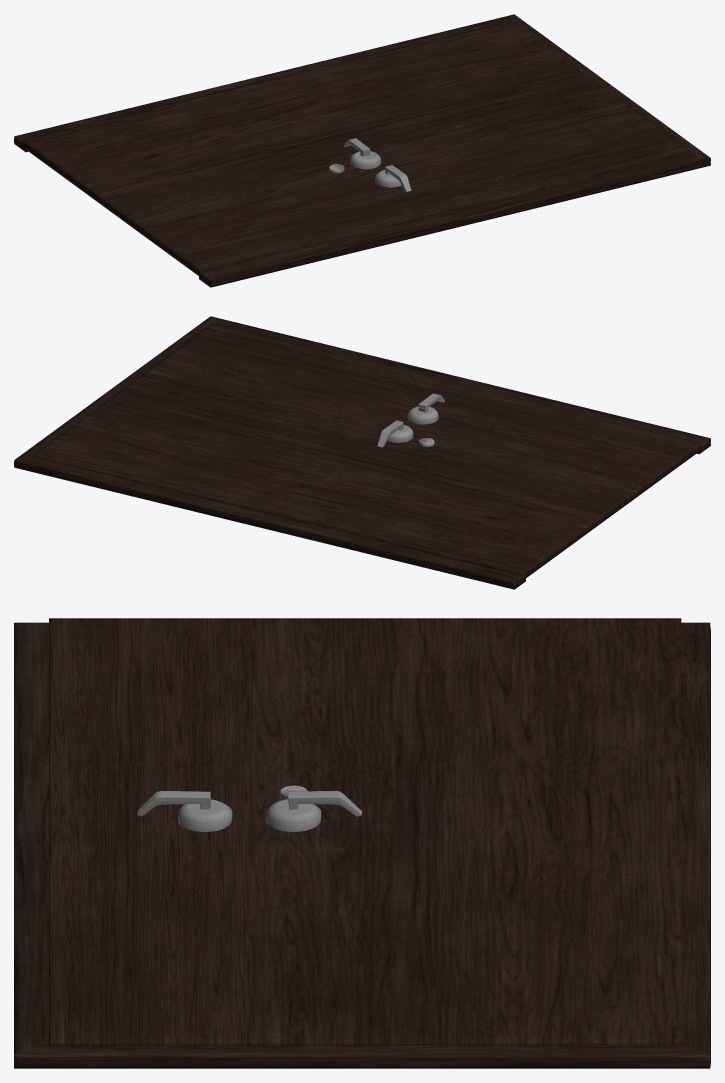
File: SM_104_Door_101.fbx
3 renders of one model, top to bottom at view 1: azimuth 30°, elevation 25°; view 2: azimuth 150°, elevation 25°; view 3: azimuth 270°, elevation 25°, orthographic. The views are drawn at different scales.
Visible parts, largest first — view 1: SM_104_Door_101; view 2: SM_104_Door_101; view 3: SM_104_Door_101.
Part boxes in pixels (left/top/right/bottom): SM_104_Door_101: left=14, top=14, right=710, bottom=287; SM_104_Door_101: left=14, top=316, right=710, bottom=589; SM_104_Door_101: left=14, top=618, right=710, bottom=1068.
Size of the model in its own units: 249 by 170 by 11.84.
1 material, 1 textured.
